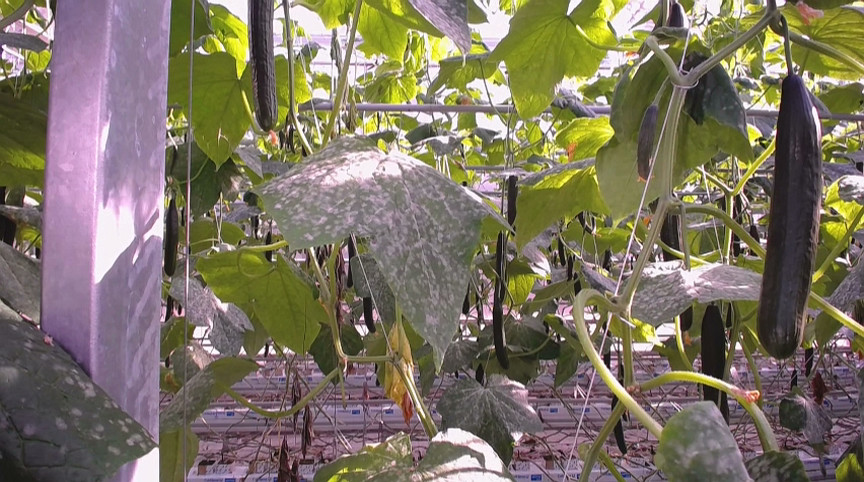cucumber: (756, 75, 824, 361), (247, 1, 278, 133), (700, 306, 729, 422), (491, 297, 511, 370), (162, 198, 178, 279), (362, 295, 375, 335)
